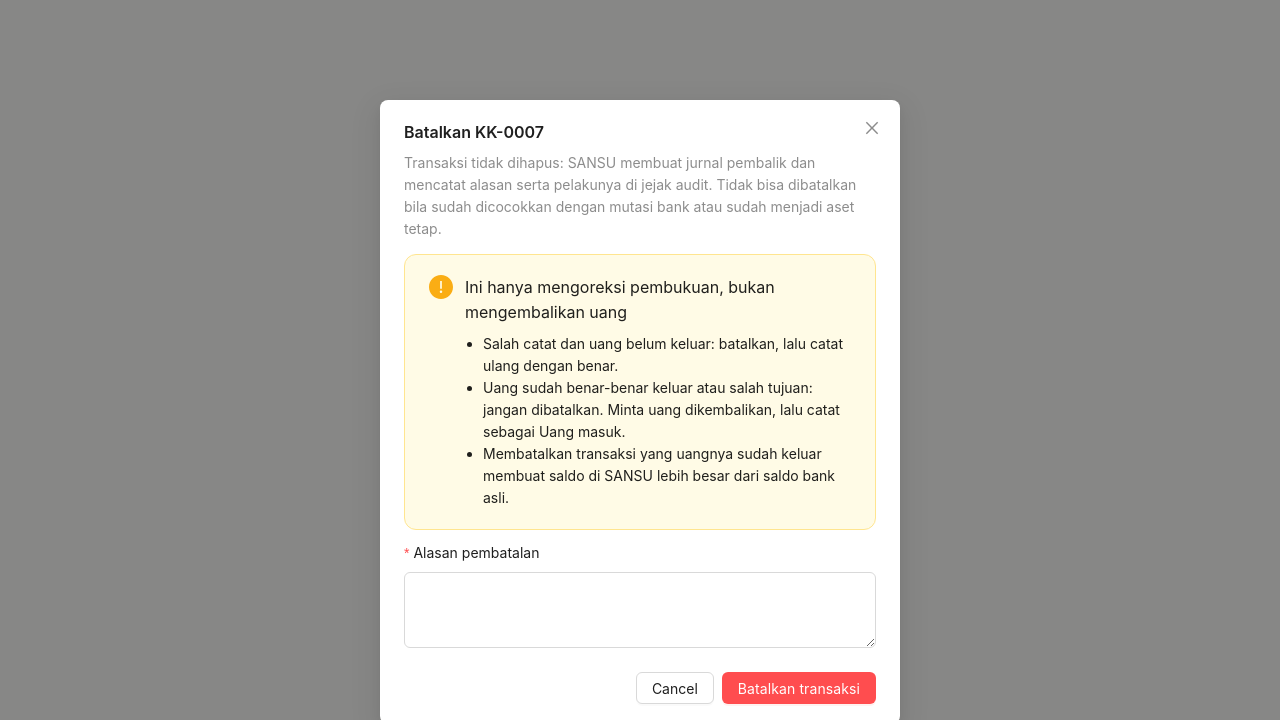
Test: Batalkan transaksi kas › alasan wajib (min. 5 karakter): tanpa alasan yang valid tidak ada permintaan ke server
Expected: the text "Batalkan KK-0007" is shown, [404,122,544,142]
Expected: the text "Ini hanya mengoreksi pembukuan, bukan mengembalikan uang" is shown, [465,277,775,322]
Click the button "Batalkan transaksi" at (799, 688), box [722,672,876,704]
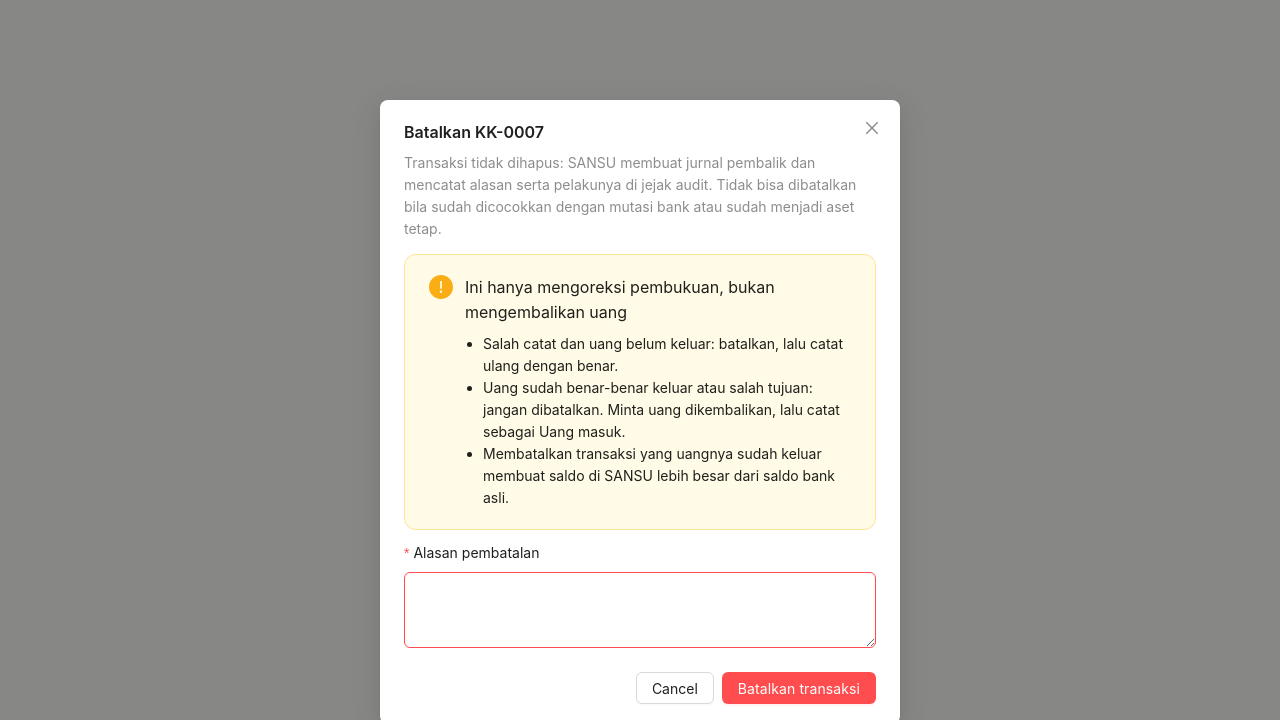
Type "abc" into the text box at (640, 610), box [404,572,876,648]
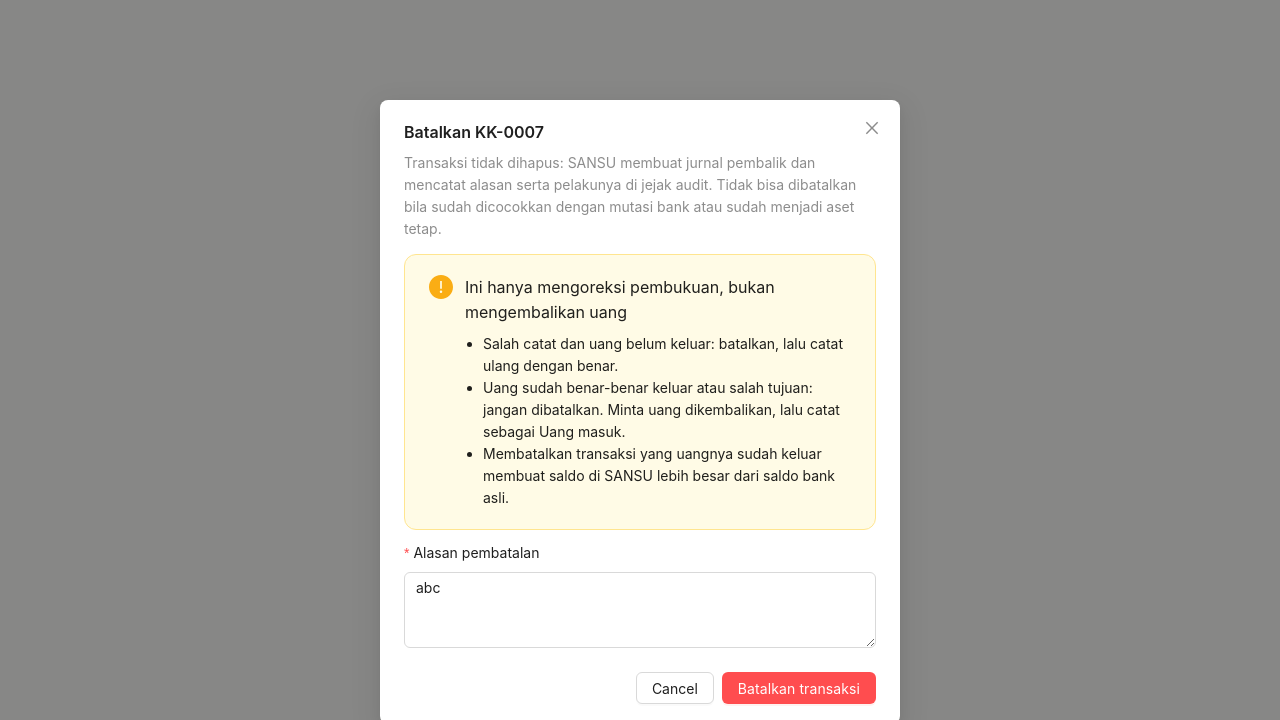
Click the button "Batalkan transaksi" at (799, 688), box [722,672,876,704]
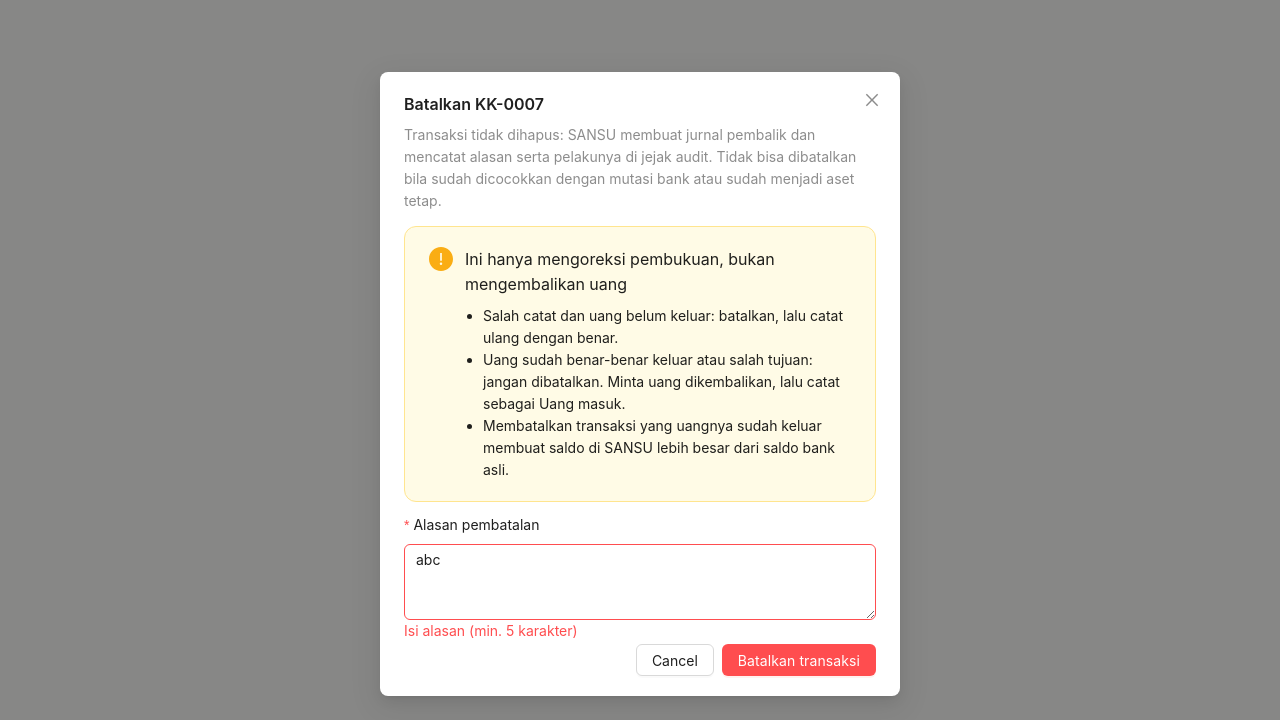
Now the text "Isi alasan (min. 5 karakter)" is shown, box [404,622,578,639]
